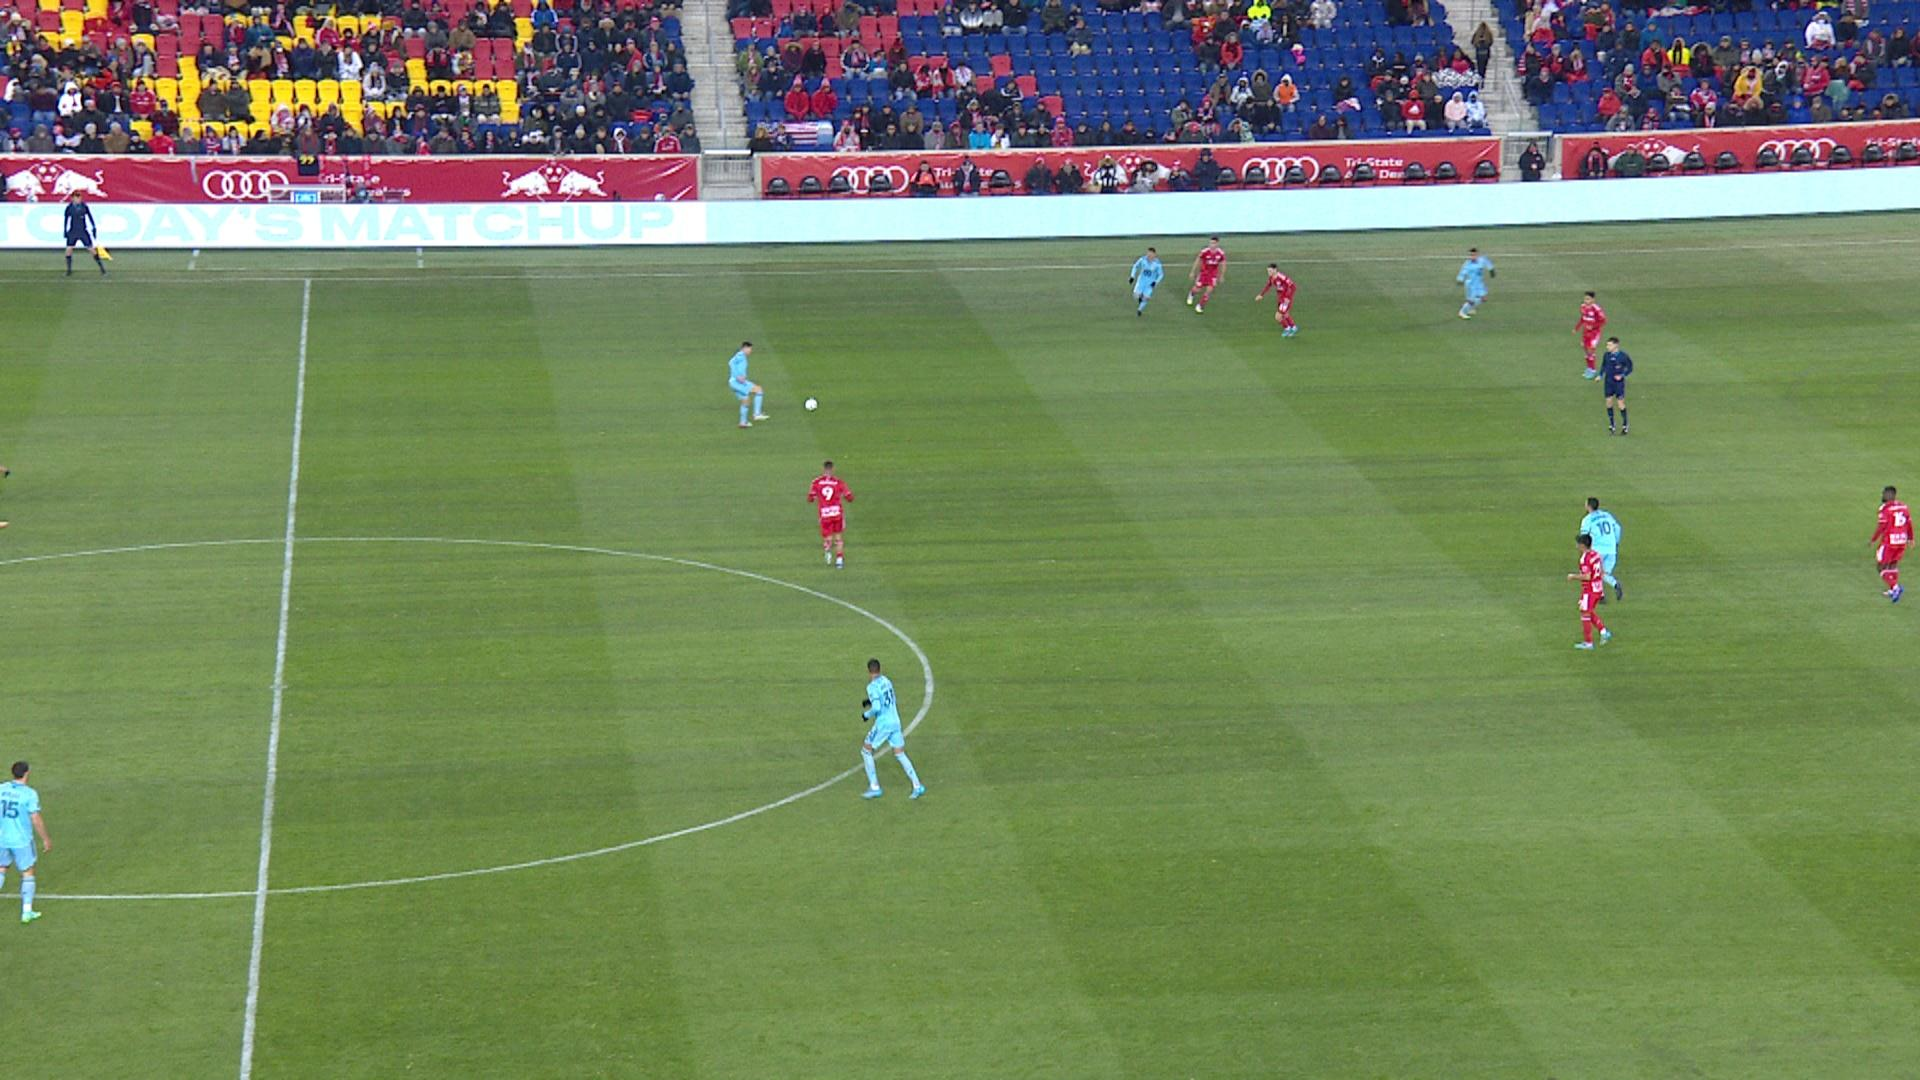football: (804, 398, 819, 411)
